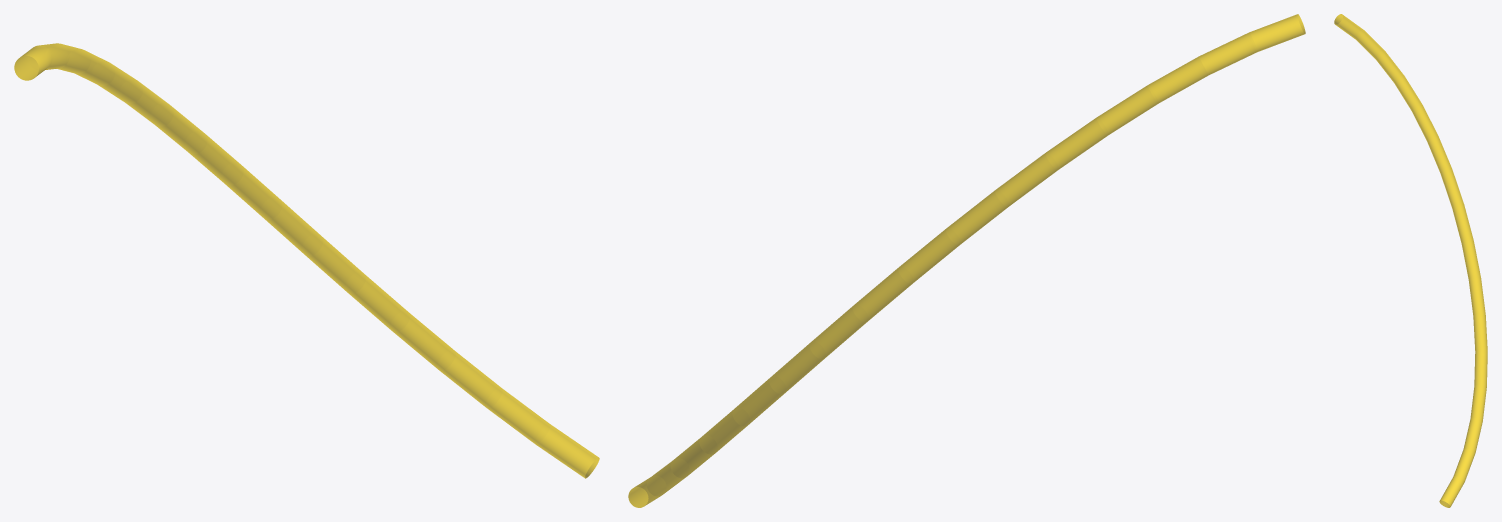
The model's file is Event_27938768_track_77.fbx.
The picture shows the model from 3 angles, left to right: view 1: azimuth 30°, elevation 25°; view 2: azimuth 150°, elevation 25°; view 3: azimuth 270°, elevation 25°; orthographic projection. The views are drawn at different scales.
Visible parts, largest first — view 1: Model; view 2: Model; view 3: Model.
Part boxes in pixels (x1,y1,x2,y2): Model: (14, 43, 599, 478); Model: (628, 14, 1305, 507); Model: (1334, 14, 1487, 507).
Size of the model in its own units: 1.25 by 1.15 by 0.4848.
